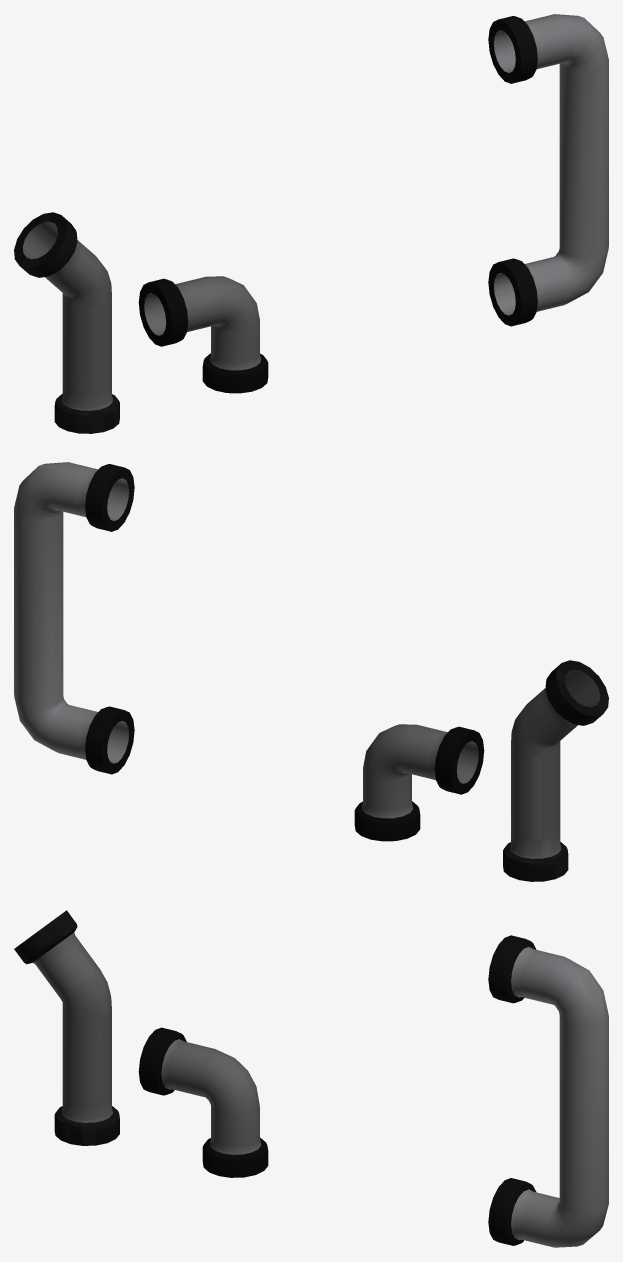
The model's file is pipe connet.fbx.
3 renders of one model, top to bottom at view 1: azimuth 30°, elevation 25°; view 2: azimuth 150°, elevation 25°; view 3: azimuth 330°, elevation 25°, orthographic.
Parts seen in each view (by area): view 1: Pipes12, Pipes13, Pipes5; view 2: Pipes12, Pipes13, Pipes5; view 3: Pipes12, Pipes13, Pipes5.
Part boxes in pixels (x1=…): Pipes12: x1=488, y1=14, x2=608, y2=326; Pipes13: x1=14, y1=212, x2=119, y2=433; Pipes5: x1=138, y1=276, x2=268, y2=393; Pipes12: x1=14, y1=462, x2=134, y2=774; Pipes13: x1=503, y1=660, x2=608, y2=881; Pipes5: x1=354, y1=724, x2=484, y2=841; Pipes12: x1=488, y1=935, x2=608, y2=1247; Pipes13: x1=14, y1=910, x2=119, y2=1145; Pipes5: x1=138, y1=1027, x2=268, y2=1177.
Size of the model in its own units: 1046 by 515 by 102.
Materials: 1 (1 with a texture image).
